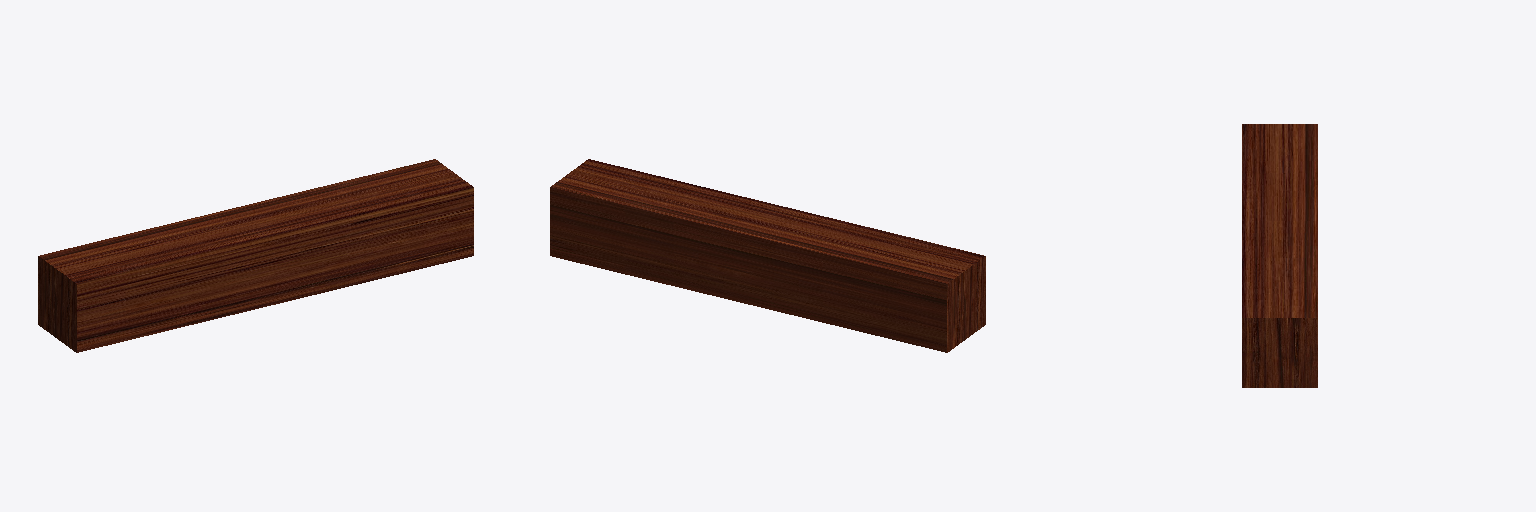
3 views of the same model, side by side, from view 1: azimuth 30°, elevation 25°; view 2: azimuth 150°, elevation 25°; view 3: azimuth 270°, elevation 25° (orthographic).
Visible parts, largest first — view 1: Wooden_Stick; view 2: Wooden_Stick; view 3: Wooden_Stick.
Part boxes in pixels (bbox=[...]): Wooden_Stick: bbox=[38, 159, 473, 352]; Wooden_Stick: bbox=[550, 159, 985, 352]; Wooden_Stick: bbox=[1242, 124, 1317, 387].
Size of the model in its own units: 1.2 by 0.2 by 0.2.
Materials: 1 (1 with a texture image).